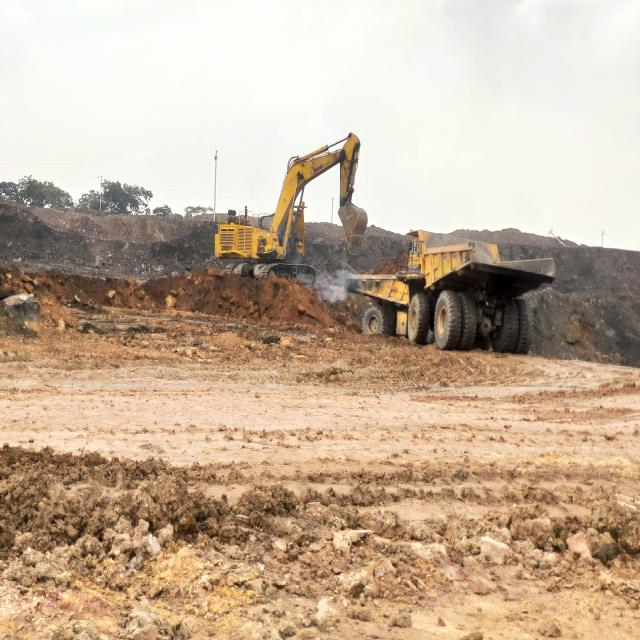dump_truck: (404, 222, 559, 354)
excavator: (211, 116, 375, 301)
